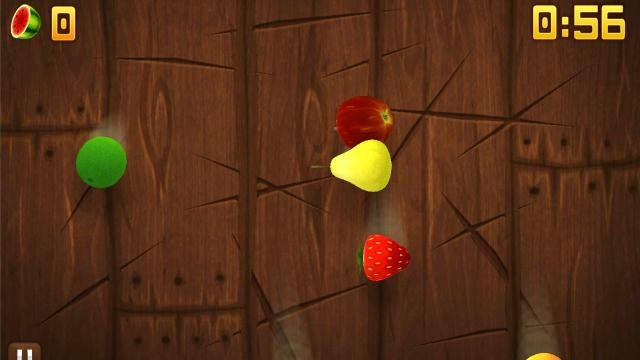fruit: (330, 138, 394, 192), (334, 94, 394, 150), (74, 136, 128, 188), (357, 234, 409, 282), (524, 352, 562, 360)
ignore: (10, 4, 42, 40)
